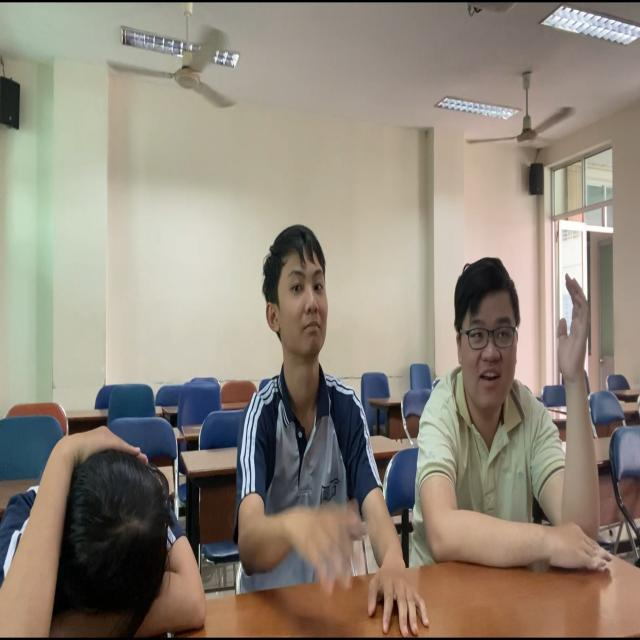raise_hand: (413, 234, 614, 597)
sleep: (1, 424, 205, 640)
